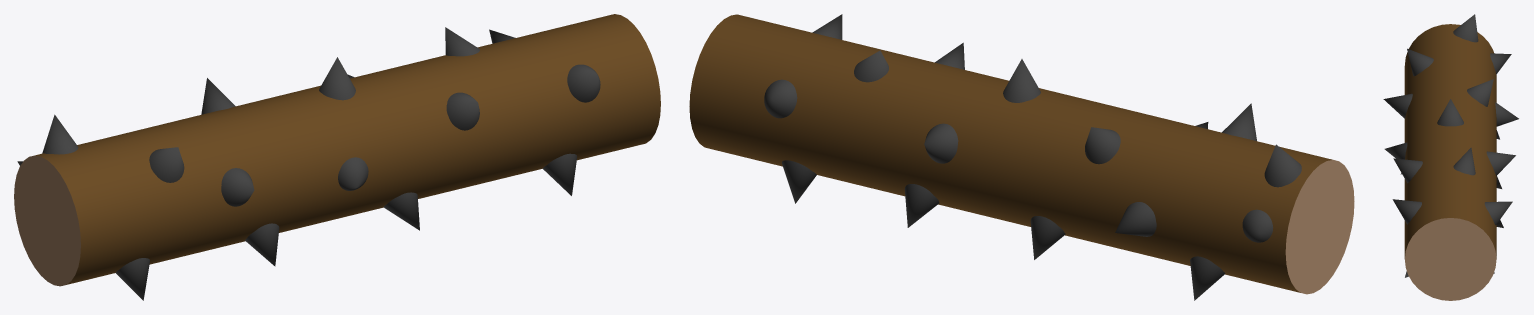
Rendered from tronco.fbx.
3 renders of one model, left to right at view 1: azimuth 30°, elevation 25°; view 2: azimuth 150°, elevation 25°; view 3: azimuth 270°, elevation 25°, orthographic. The views are drawn at different scales.
Parts seen in each view (by area): view 1: tronco; view 2: tronco; view 3: tronco.
Part boxes in pixels (box(x1,y1,x2,y2)): tronco: box(14, 14, 660, 300); tronco: box(689, 14, 1354, 300); tronco: box(1383, 14, 1518, 300).
Bounding box in the file's own units: 2000 × 541 × 594.
Materials: 1 (1 with a texture image).
